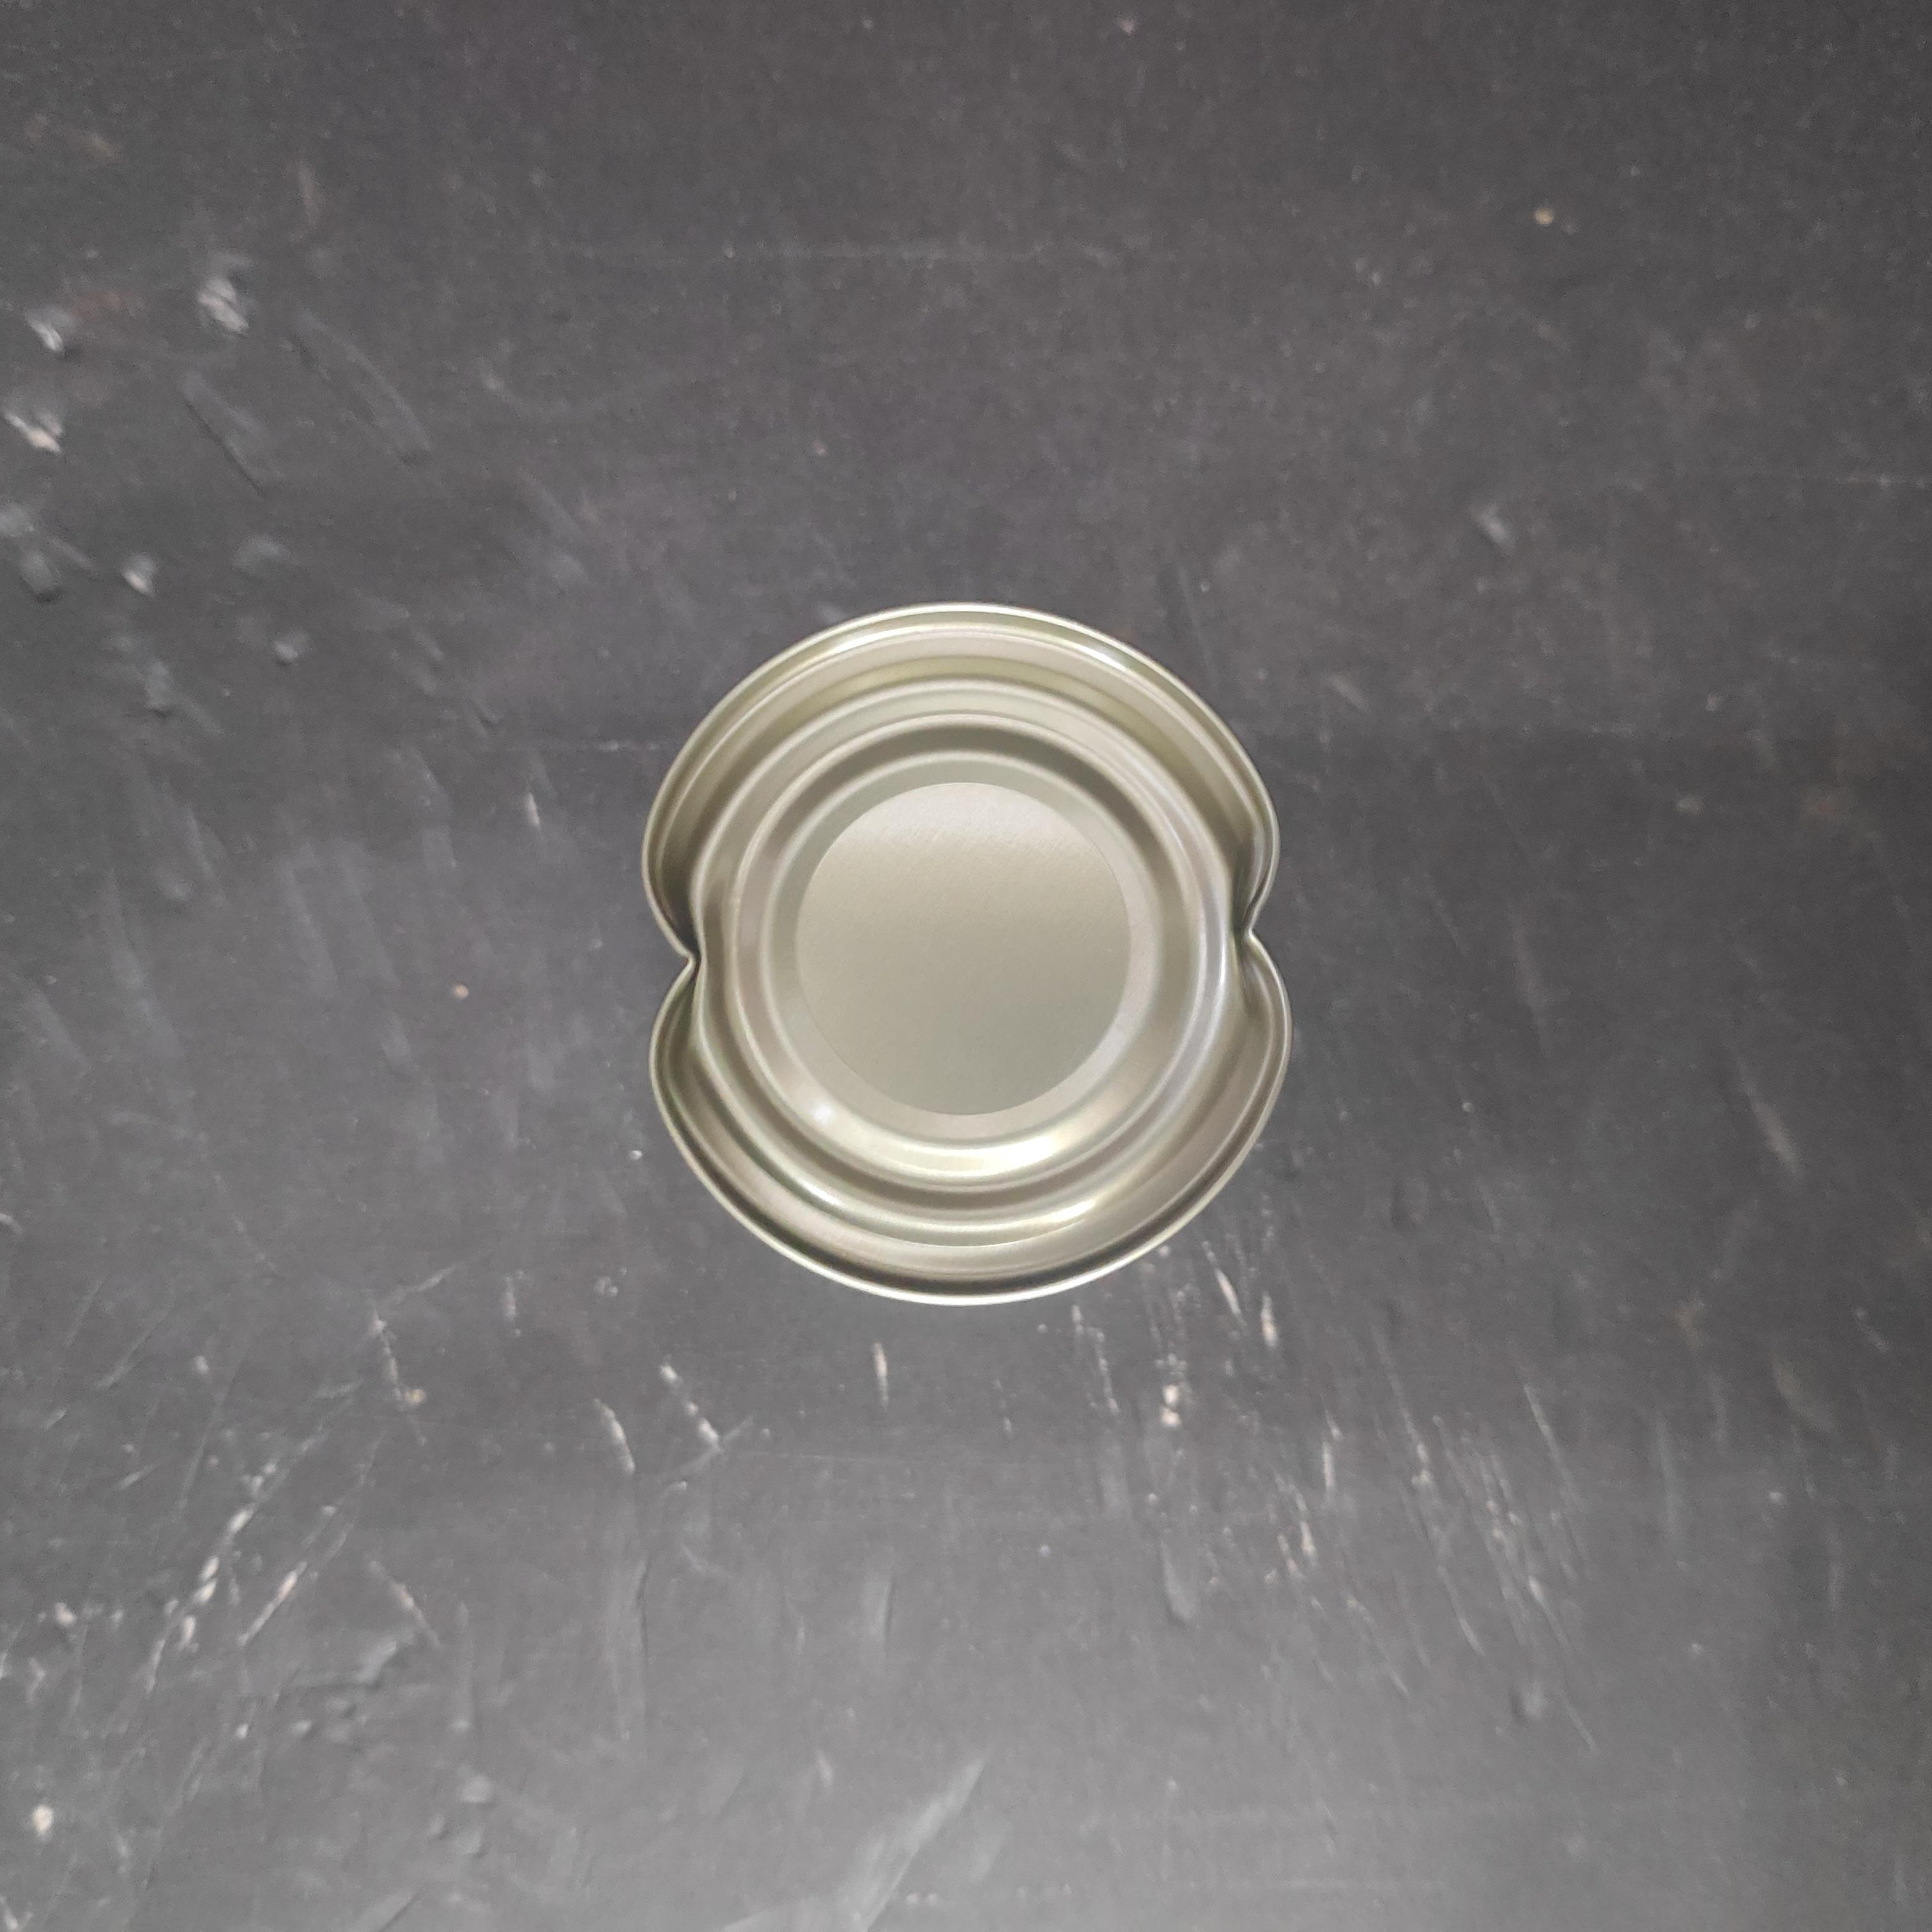Critical Defect: (633, 586, 1302, 1316)
